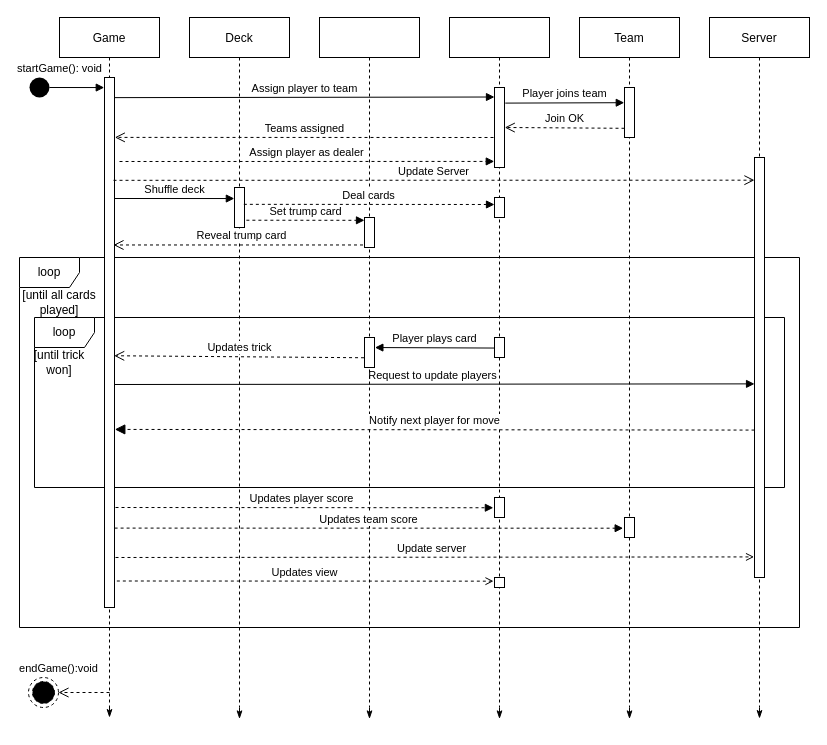
Some shapes in this 827 by 745 pixel diagram are drawn without their labels. Here are the shapes that lost their labels. From the top down, the centre of each, then its label:
At (369,362): "Card".
At (499,362): "Player".
